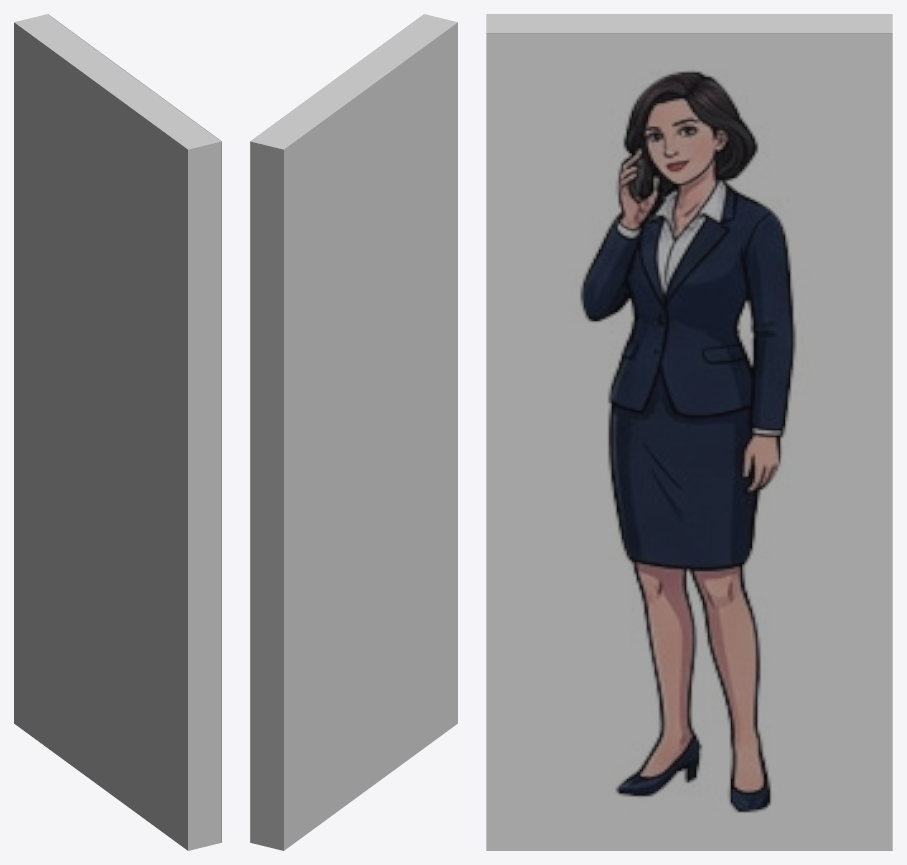
3 renders of one model, left to right at view 1: azimuth 30°, elevation 25°; view 2: azimuth 150°, elevation 25°; view 3: azimuth 270°, elevation 25°, orthographic. The views are drawn at different scales.
Visible parts, largest first — view 1: 立方体, 平面; view 2: 立方体, 平面; view 3: 平面, 立方体.
Boxes of the visible parts, bbox=[...] form: 立方体: bbox=[14, 14, 221, 850]; 平面: bbox=[48, 14, 221, 842]; 立方体: bbox=[250, 14, 457, 850]; 平面: bbox=[250, 14, 423, 842]; 平面: bbox=[486, 33, 892, 850]; 立方体: bbox=[486, 14, 892, 33].
Bounding box in the file's own units: 0.0101 × 0.09 × 0.2.
1 material, 1 textured.
